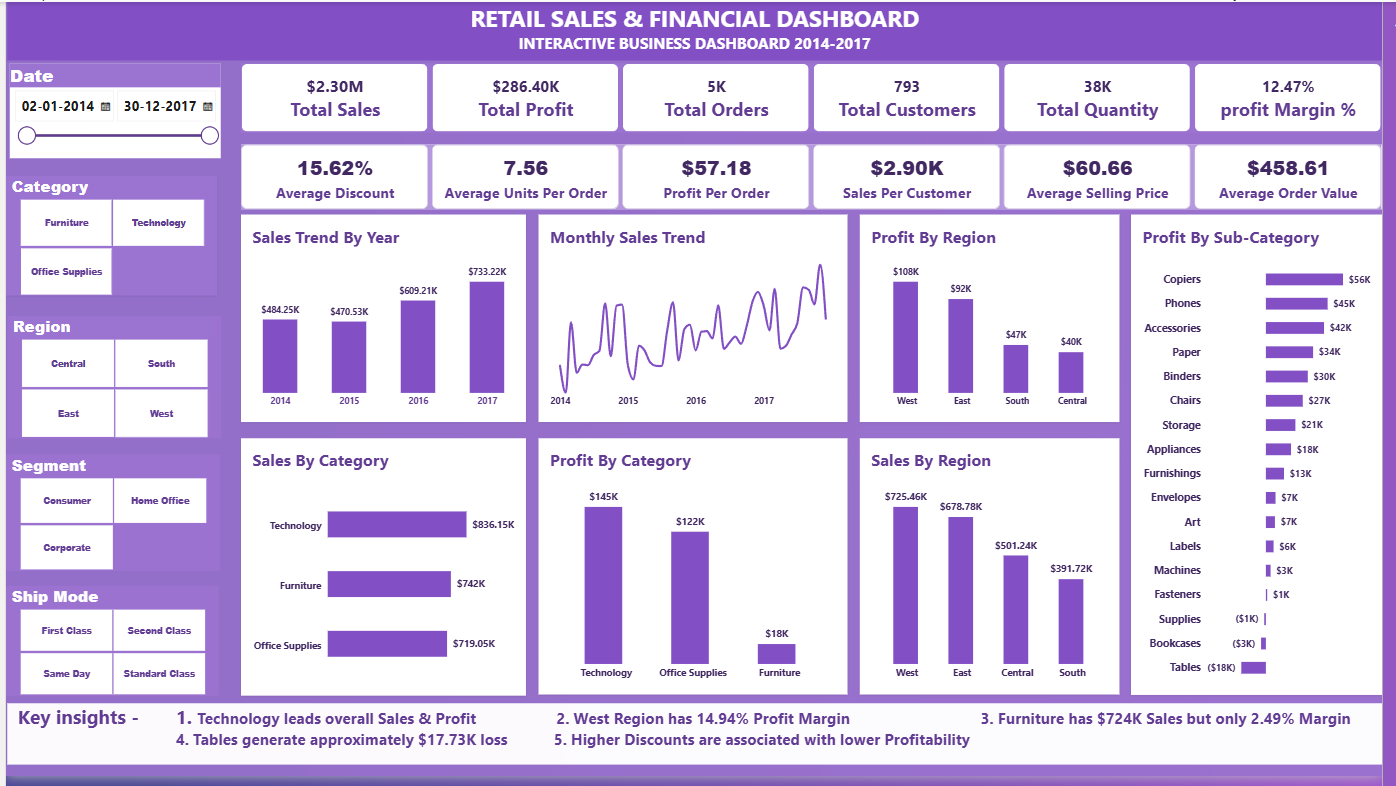

Layout of this report page (visuals, bound fields, positions):
{"tool":"powerbi","page":{"name":"Page 1","canvas":[1920,1080],"ordinal":0},"visuals":[{"type":"cardVisual","fields":{"Data":["Superstore.Total Sales","Superstore.Total Profit","Superstore.Total Orders","Superstore.Total Customers","Superstore.Total Quantity","Superstore.profit Margin %"]},"box":[327.4,85.7,1593.2,96.7],"z":0},{"type":"cardVisual","fields":{"Data":["Superstore.Average Discount","Superstore.Average Units Per Order","Superstore.Profit Per Order","Superstore.Sales Per Customer","Superstore.Average Selling Price","Superstore.Average Order Value"]},"box":[327.4,198,1593.2,90.4],"z":3000},{"type":"textbox","box":[1.7,0,1918.6,82],"z":4000},{"type":"slicer","title":"Date","fields":{"Values":["Date Table.Date"]},"box":[4.7,85.7,294.8,130.8],"z":5000},{"type":"slicer","fields":{"Values":["Superstore.Category"]},"box":[0,242.4,294.8,167.4],"z":6000},{"type":"slicer","fields":{"Values":["Superstore.Region"]},"box":[1.7,437.8,298.3,170.9],"z":7000},{"type":"slicer","fields":{"Values":["Superstore.Segment"]},"box":[0,631.4,298.3,162.2],"z":8000},{"type":"slicer","fields":{"Values":["Superstore.Ship Mode"]},"box":[0,814.5,296.5,153.5],"z":9000},{"type":"clusteredColumnChart","title":"Sales Trend By Year","fields":{"Category":["Date Table.Date.Variation.Date Hierarchy.Year"],"Y":["Superstore.Total Sales"]},"box":[327.9,296.5,397.7,289.5],"z":10000},{"type":"clusteredBarChart","title":"Sales By Category","fields":{"Category":["Superstore.Category"],"Y":["Superstore.Total Sales"]},"box":[327.9,608.7,397.7,359.3],"z":11000},{"type":"clusteredColumnChart","title":"Sales By Region","fields":{"Y":["Superstore.Total Sales"],"Category":["Superstore.Region"]},"box":[1191.3,608.7,362.8,357.6],"z":12000},{"type":"clusteredColumnChart","title":"Profit By Category","fields":{"Category":["Superstore.Category"],"Y":["Superstore.Total Profit"]},"box":[743,608.7,430.8,357.6],"z":13000},{"type":"clusteredColumnChart","title":"Profit By Region","fields":{"Y":["Superstore.Total Profit"],"Category":["Superstore.Region"]},"box":[1191.3,296.5,362.8,289.5],"z":14000},{"type":"clusteredBarChart","title":"Profit By Sub-Category","fields":{"Category":["Superstore.Sub-Category"],"Y":["Superstore.Total Profit"]},"box":[1569.8,296.2,350.8,670.3],"z":15000},{"type":"lineChart","title":"Monthly Sales Trend","fields":{"Category":["Date Table.Date.Variation.Date Hierarchy.Year","Date Table.Date.Variation.Date Hierarchy.Month"],"Y":["Superstore.Total Sales"]},"box":[743.6,296.2,430.8,289.5],"z":16000},{"type":"textbox","box":[1.6,979,1919,85.7],"z":16001}]}

Visuals, with their boxes in screenshot pixels (x1, y1, x2, y2), scaled from the page's 1920x1080 canvas onto the 1396x786 screenshot:
cardVisual - Superstore.Total Sales x Superstore.Total Profit: (238,62,1395,133)
cardVisual - Superstore.Average Discount x Superstore.Average Units Per Order: (238,144,1395,210)
textbox: (1,0,1395,60)
"Date" slicer: (3,62,218,158)
slicer - Superstore.Category: (0,176,214,298)
slicer - Superstore.Region: (1,319,218,443)
slicer - Superstore.Segment: (0,460,217,578)
slicer - Superstore.Ship Mode: (0,593,216,704)
"Sales Trend By Year" clusteredColumnChart: (238,216,528,426)
"Sales By Category" clusteredBarChart: (238,443,528,704)
"Sales By Region" clusteredColumnChart: (866,443,1130,703)
"Profit By Category" clusteredColumnChart: (540,443,853,703)
"Profit By Region" clusteredColumnChart: (866,216,1130,426)
"Profit By Sub-Category" clusteredBarChart: (1141,216,1395,703)
"Monthly Sales Trend" lineChart: (541,216,854,426)
textbox: (1,712,1395,775)
